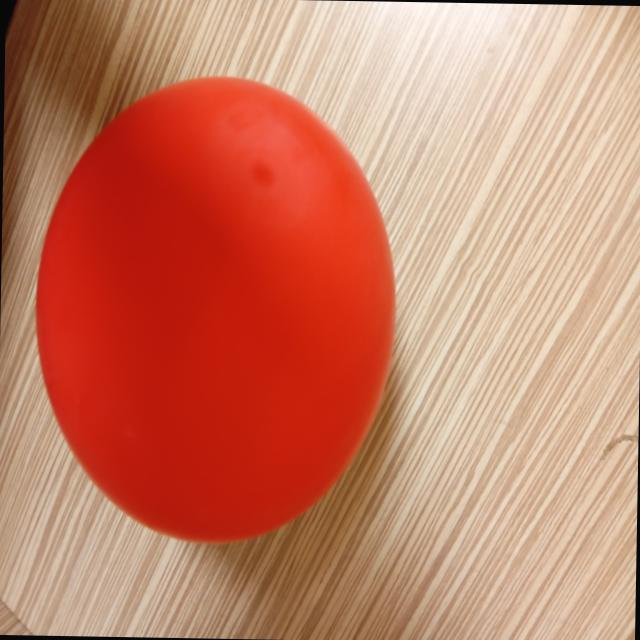balloon: (36, 77, 395, 542)
